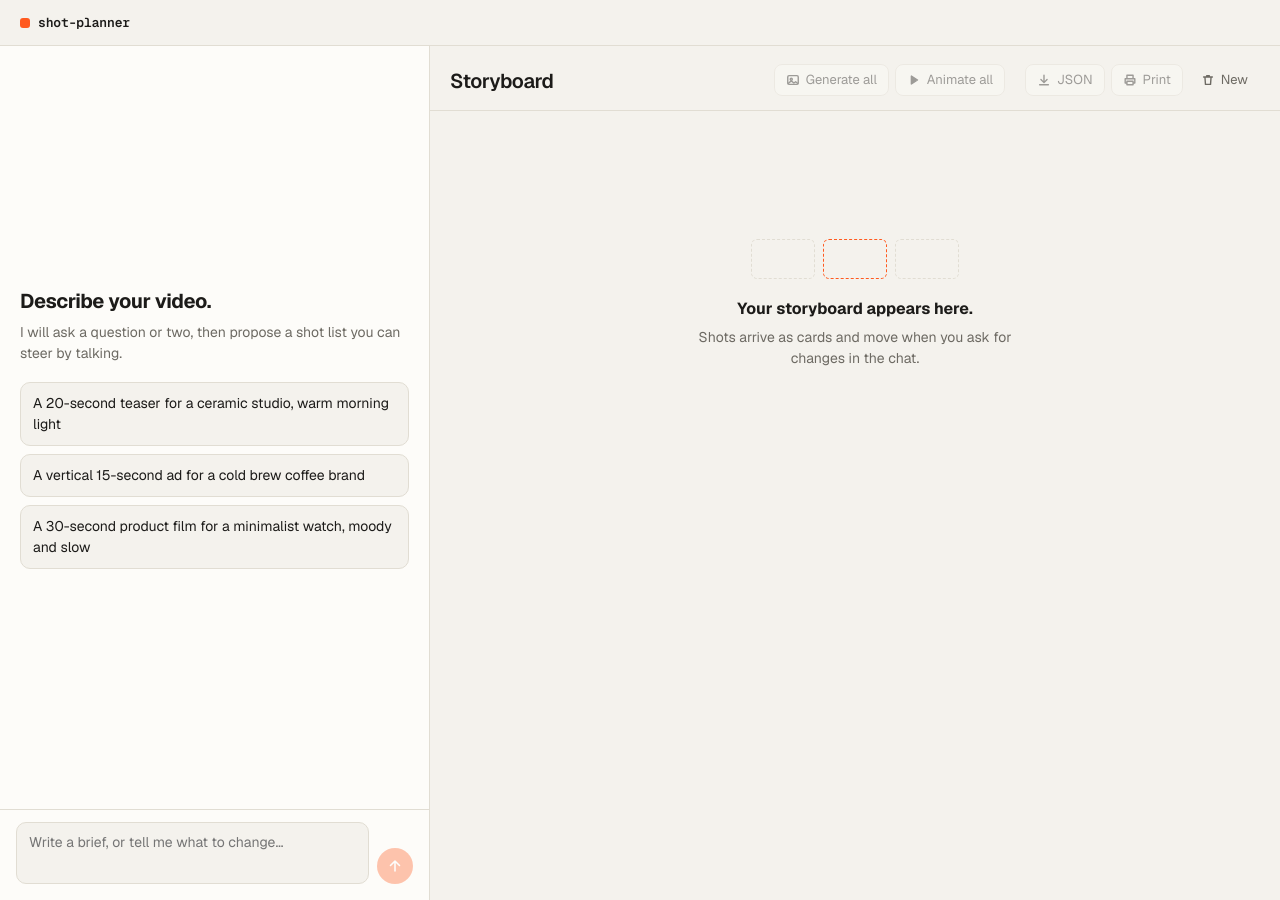
App › starts over from the toolbar
This screenshot has width=1280, height=900.
Step 1. Type "A teaser for a ceramic studio" into the text box named "Message" → (192, 853), box x1=16 y1=822 x2=369 y2=884
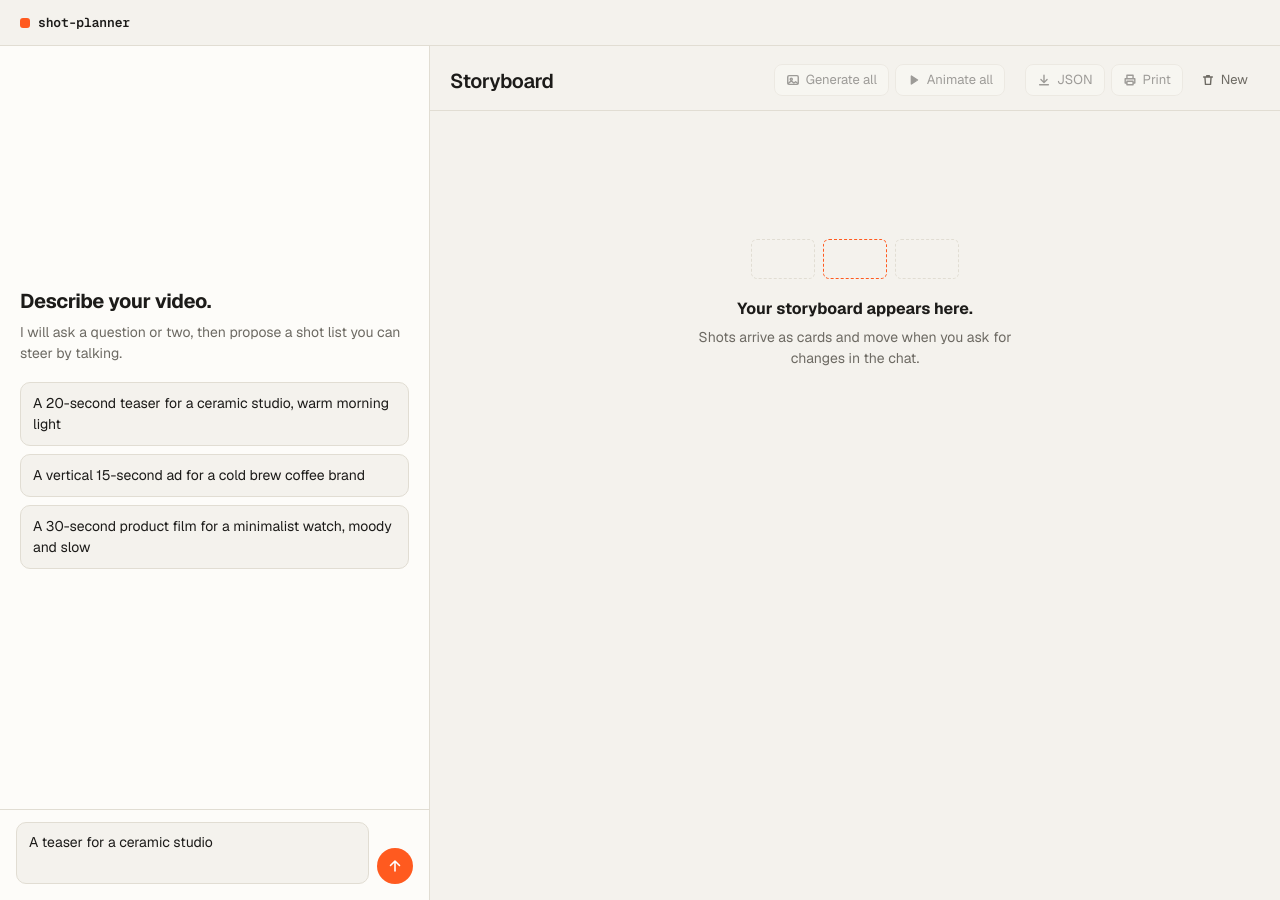
Step 2. Click the button named "Send" → (395, 866), box x1=377 y1=848 x2=413 y2=884
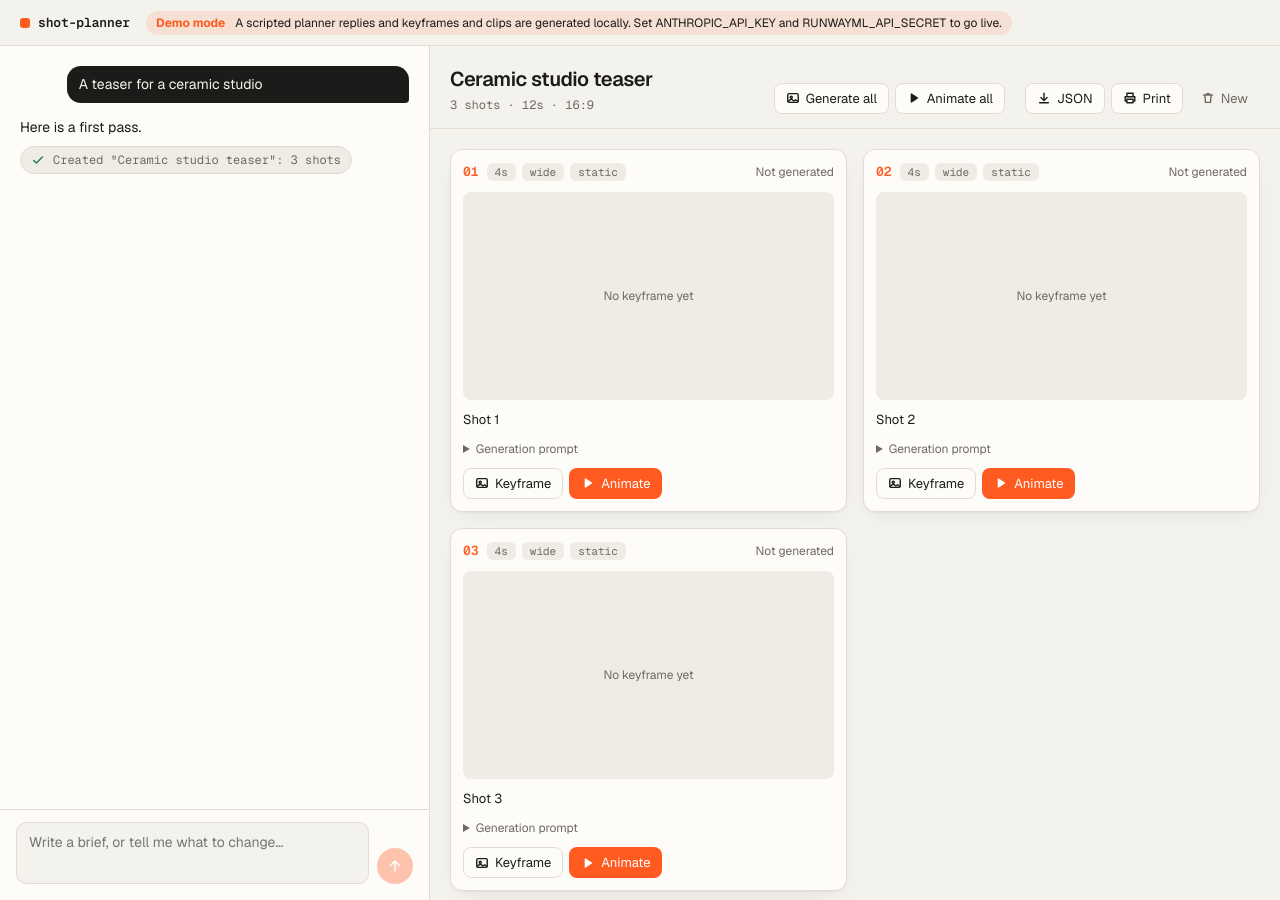
Check: the text "Here is a first pass." is shown, box x1=20 y1=117 x2=141 y2=138
Step 3. Click the button with aria-label "Start over" → (1224, 98), box x1=1189 y1=82 x2=1260 y2=114
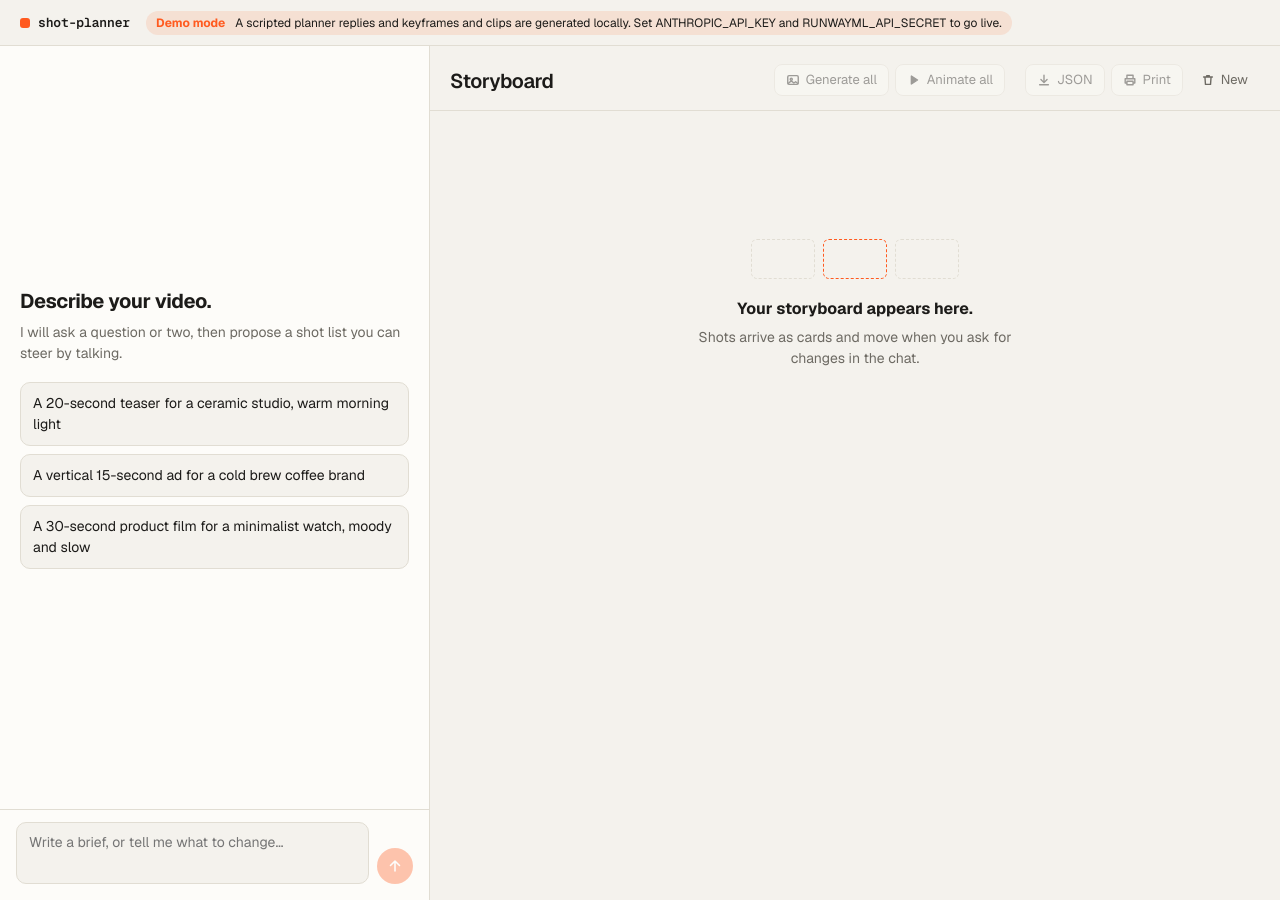
Check: the heading "Your storyboard appears here." is shown, box x1=737 y1=296 x2=973 y2=320
